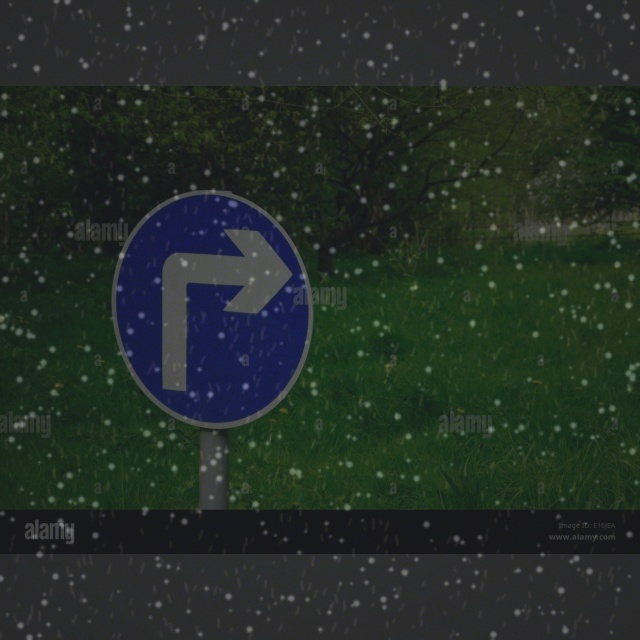Compulsory_Turn_Right_Ahead: (110, 187, 317, 431)
